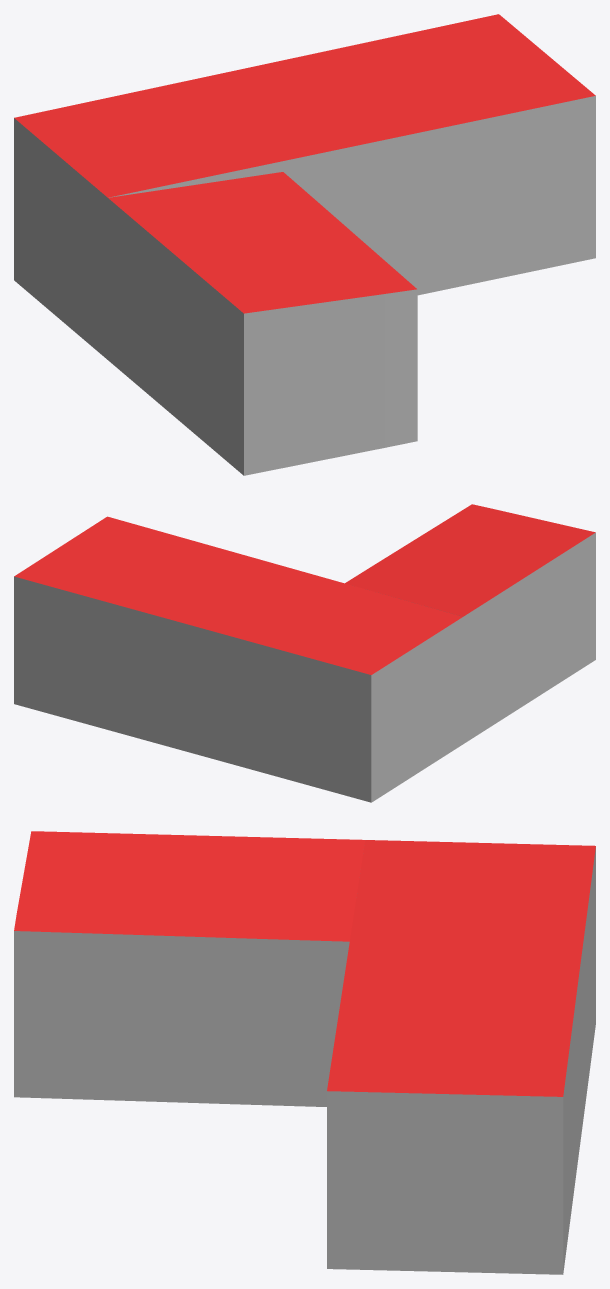
Rendered from DEBE3D04YY50000Fli.dae.
3 renders of one model, top to bottom at view 1: azimuth 30°, elevation 25°; view 2: azimuth 150°, elevation 25°; view 3: azimuth 270°, elevation 25°, orthographic. The views are drawn at different scales.
Bounding box in the file's own units: 25.9 × 23.95 × 8.07.
